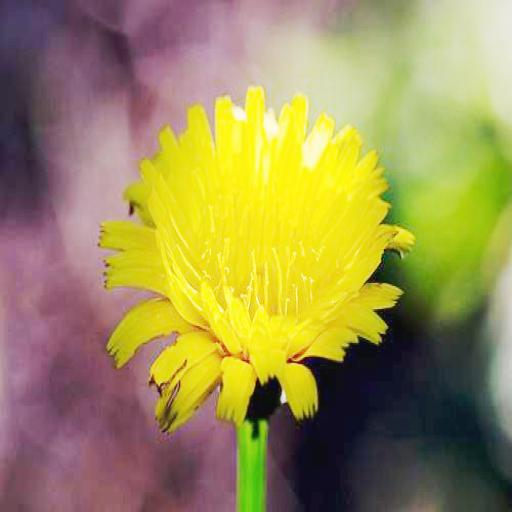dandelion: (102, 91, 410, 435)
